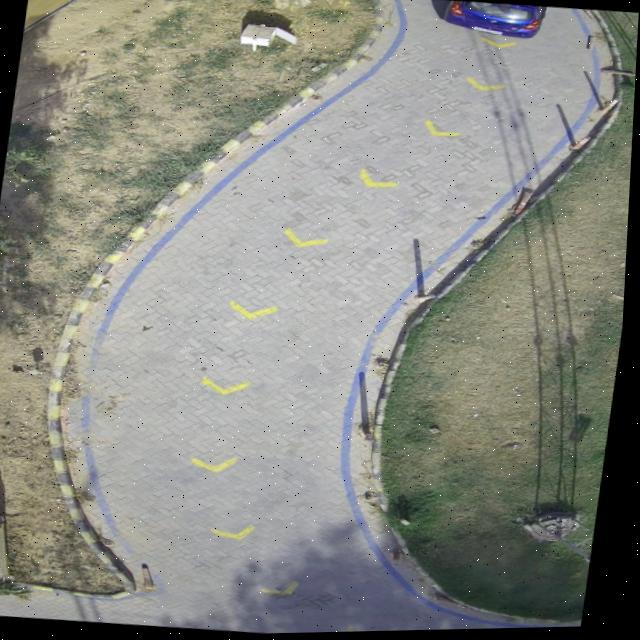car: (442, 2, 546, 41)
